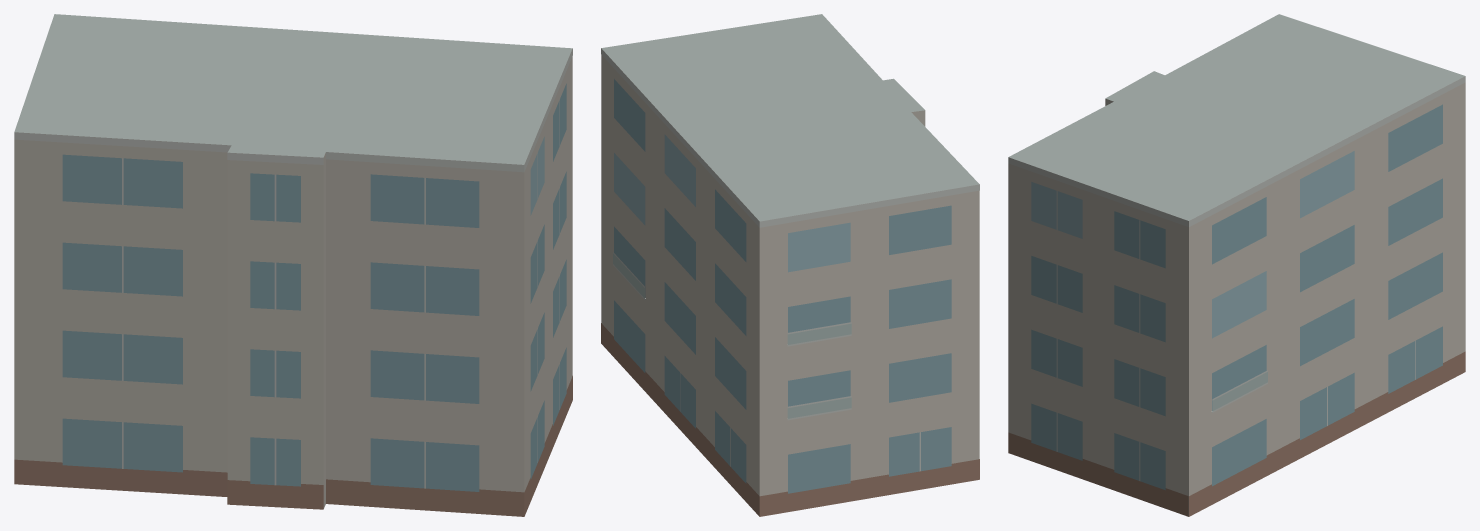
File: survey-upis-32807152.glb
3 renders of one model, left to right at view 1: azimuth 30°, elevation 25°; view 2: azimuth 150°, elevation 25°; view 3: azimuth 270°, elevation 25°, orthographic. The views are drawn at different scales.
Parts seen in each view (by area): view 1: survey-upis-32807152.tmp; view 2: survey-upis-32807152.tmp; view 3: survey-upis-32807152.tmp.
Part boxes in pixels (x1,y1,x2,y2): survey-upis-32807152.tmp: (14, 14, 572, 516); survey-upis-32807152.tmp: (601, 14, 979, 516); survey-upis-32807152.tmp: (1008, 14, 1465, 516).
Bounding box in the file's own units: 17.5 × 11.65 × 16.33.
